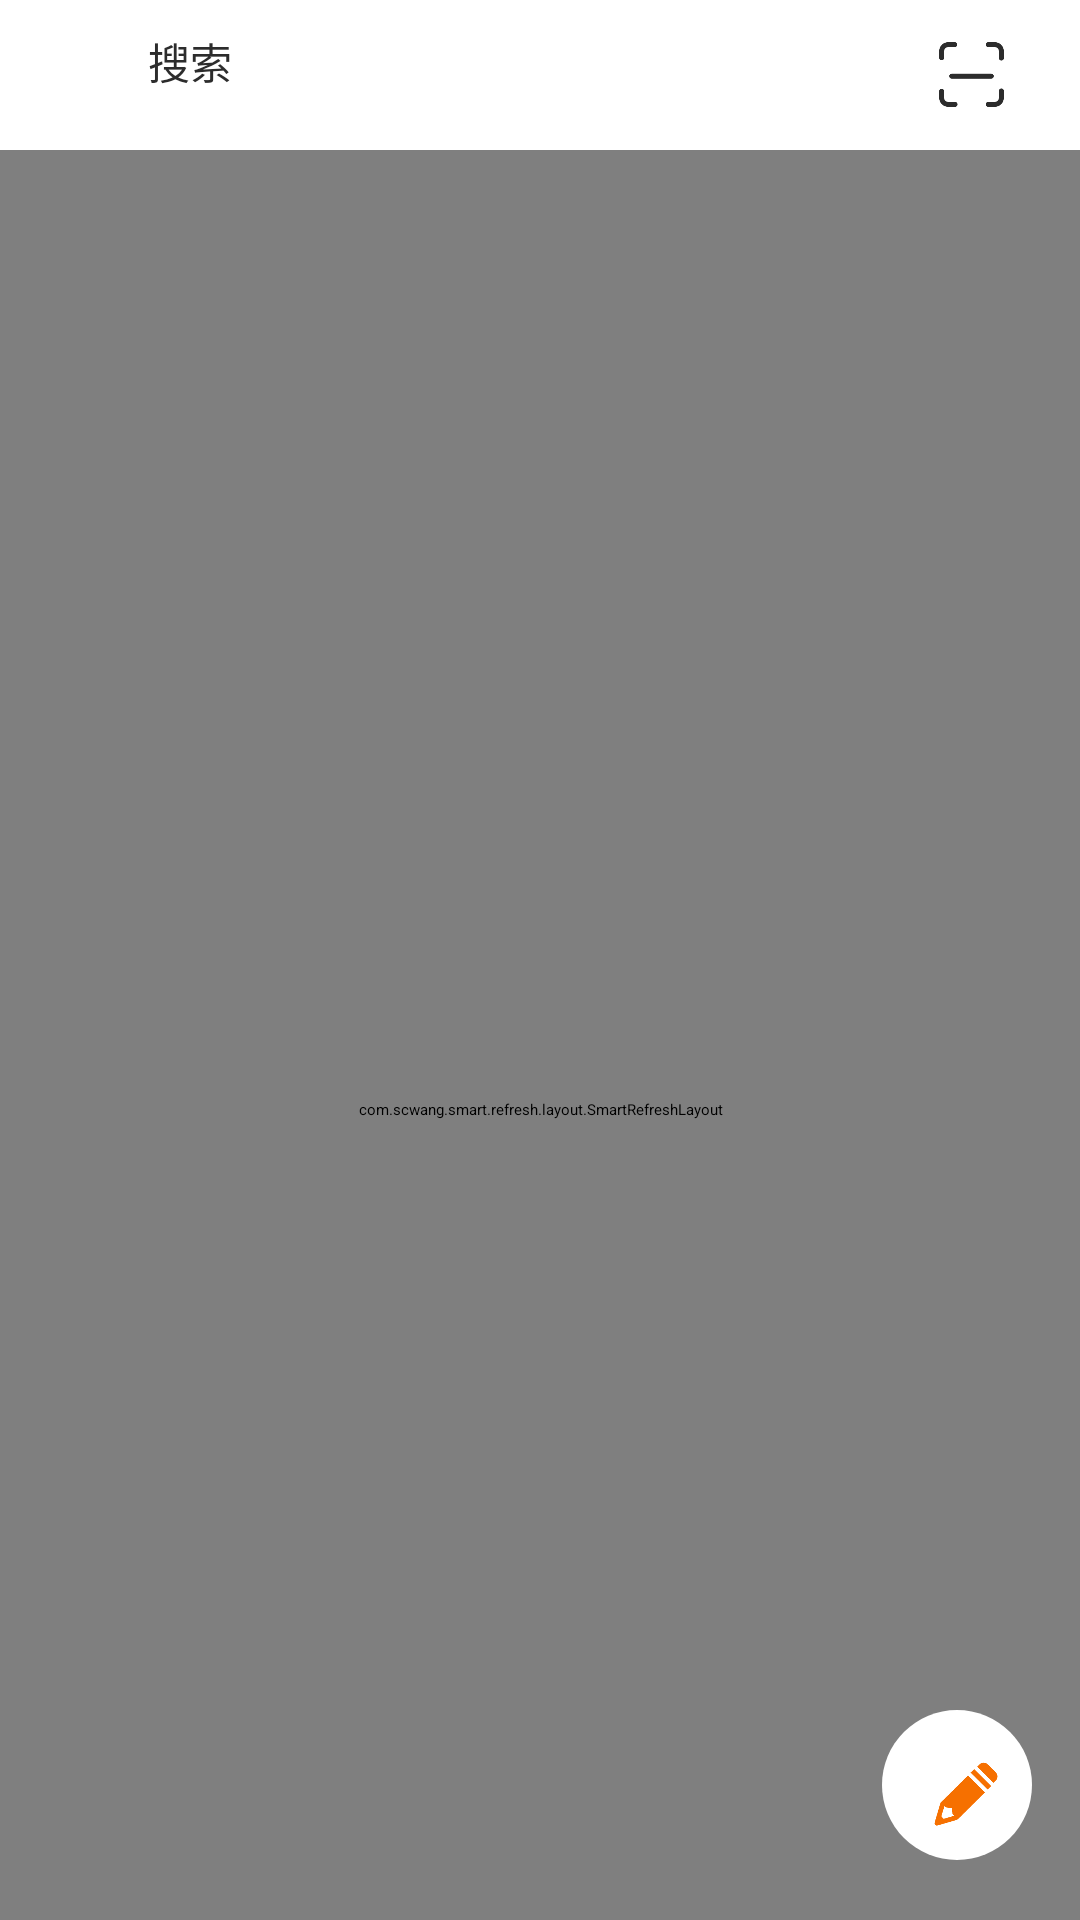

Where to tap for icons on this 1080px x 1920px app screen, as (x,y):
saoma: (971,74)
